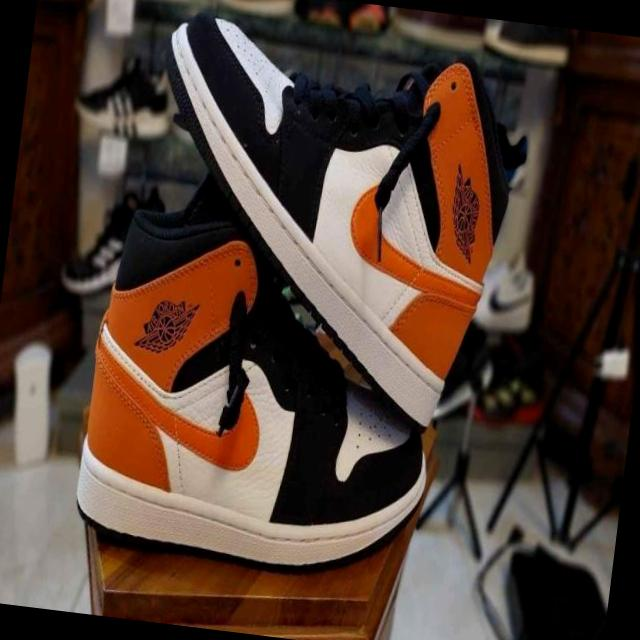nike_original_jordan: (124, 2, 541, 439), (67, 193, 462, 586)
